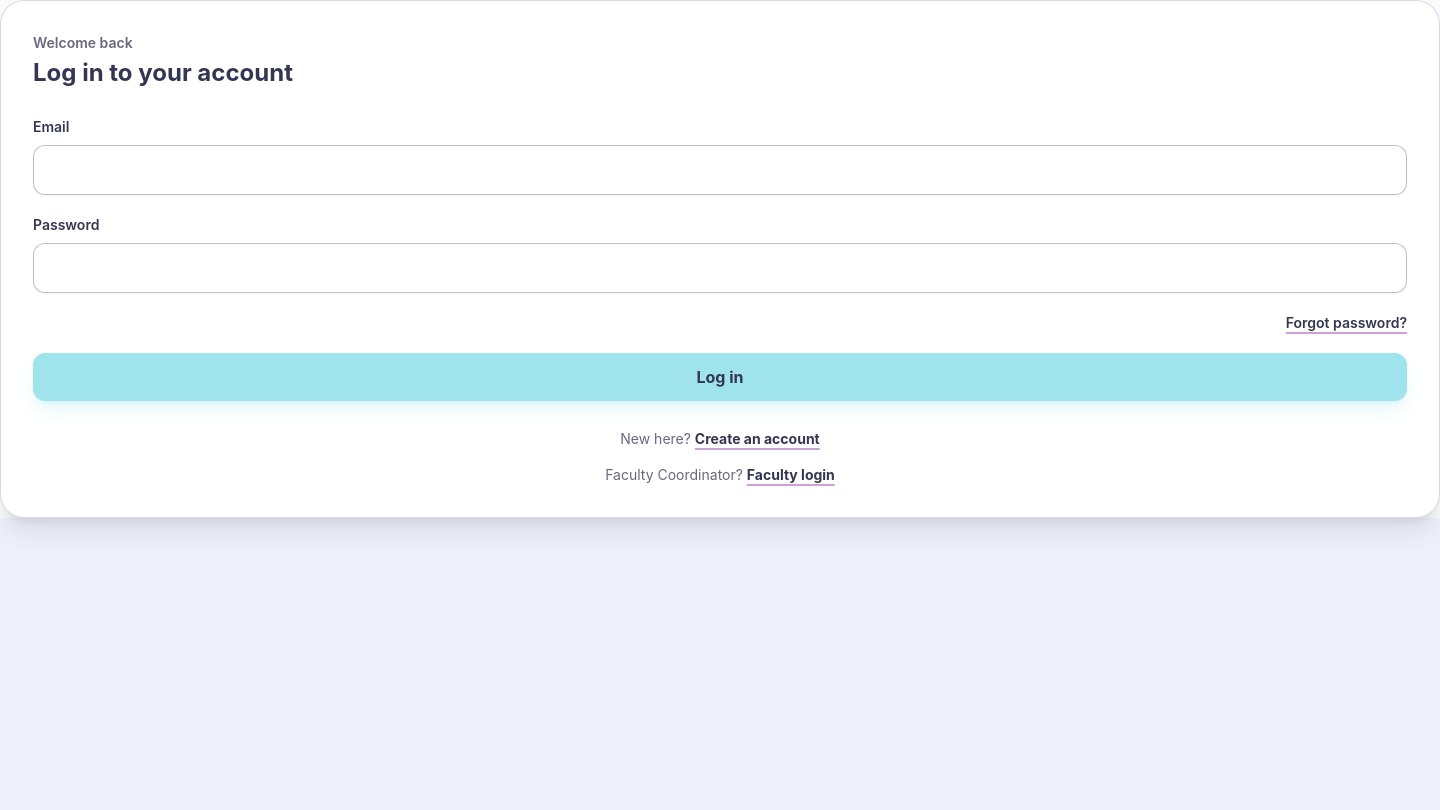
authentication forms › shows a clear login error from Supabase
This screenshot has width=1440, height=810.
Type "member@example.test" into the field labelled "Email" at point(720, 170), box [33, 145, 1407, 195]
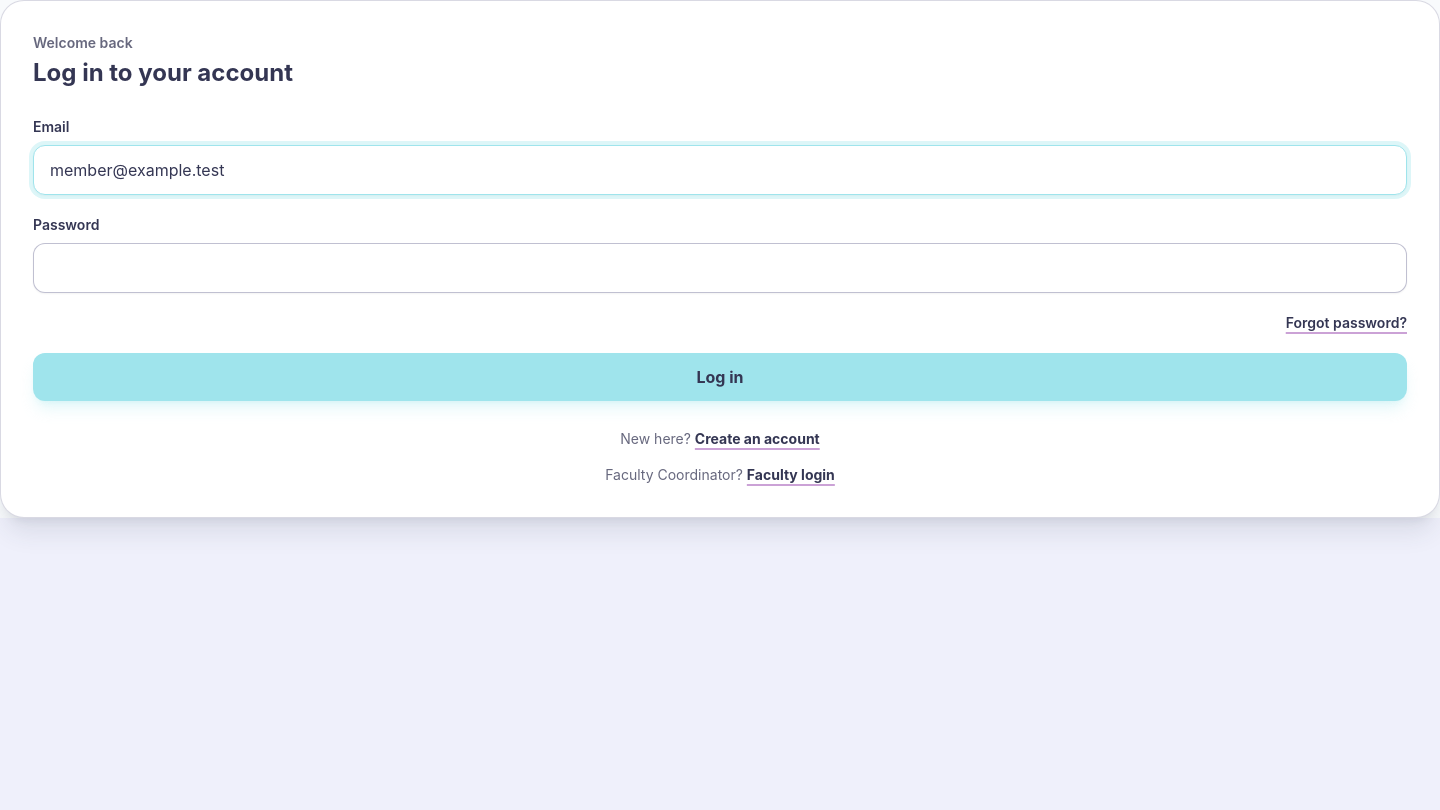
Type "WrongPass1" into the password field labelled "Password" at point(720, 268), box [33, 243, 1407, 293]
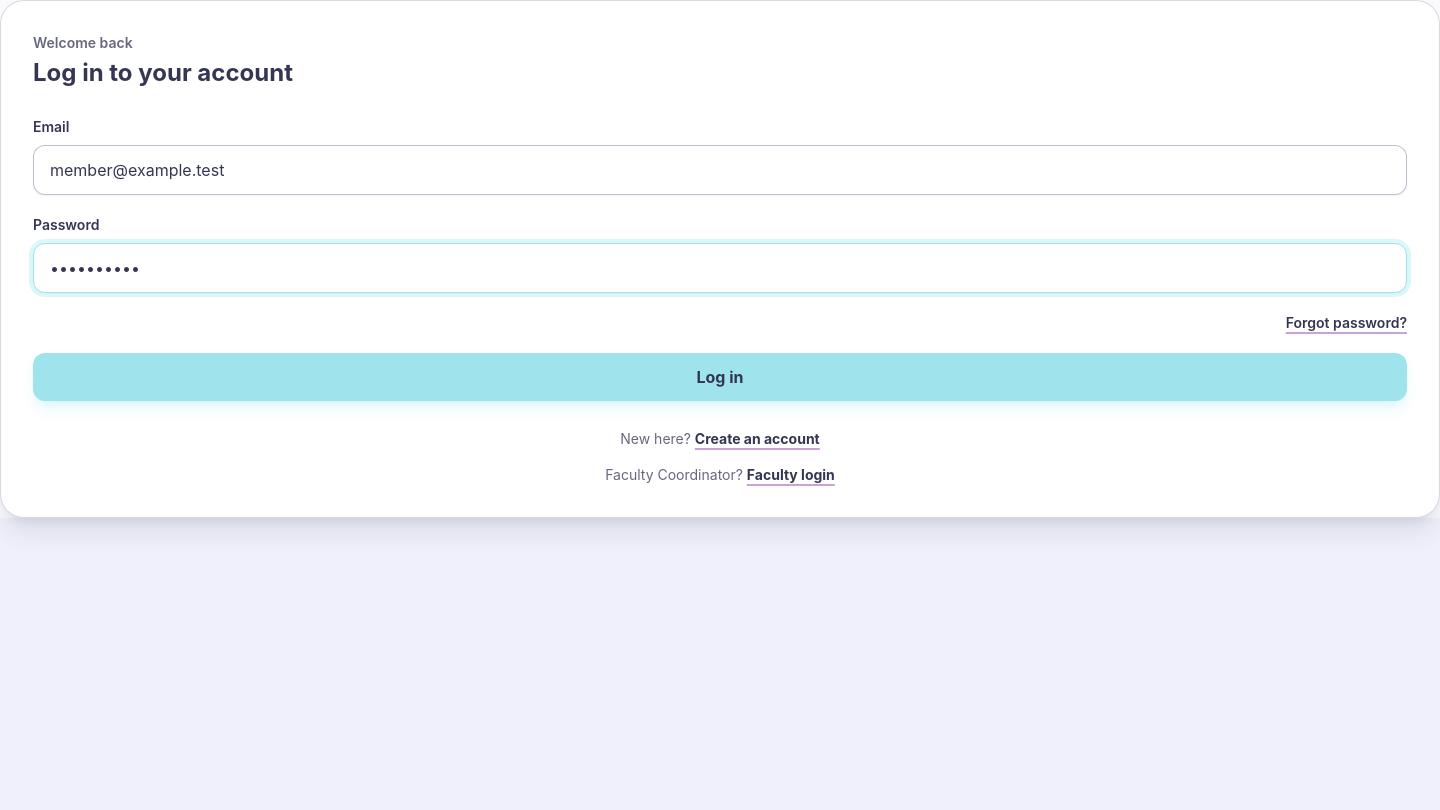
Click the button "Log in" at point(720, 377), box [33, 353, 1407, 401]
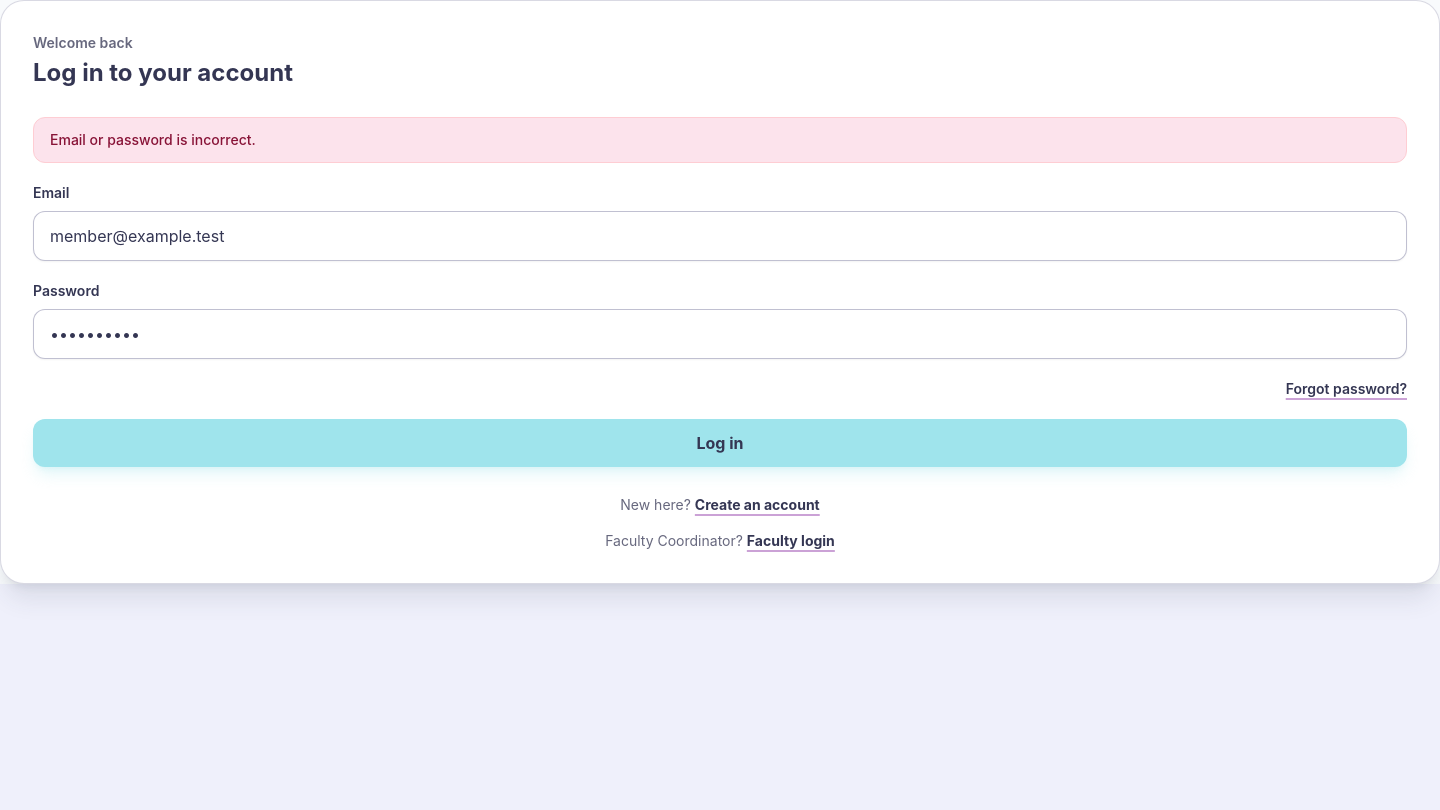
Expected: the message reads "Email or password is incorrect.", [50, 131, 256, 148]
